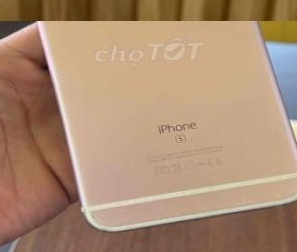scratch: (77, 203, 152, 247), (278, 164, 297, 216)
